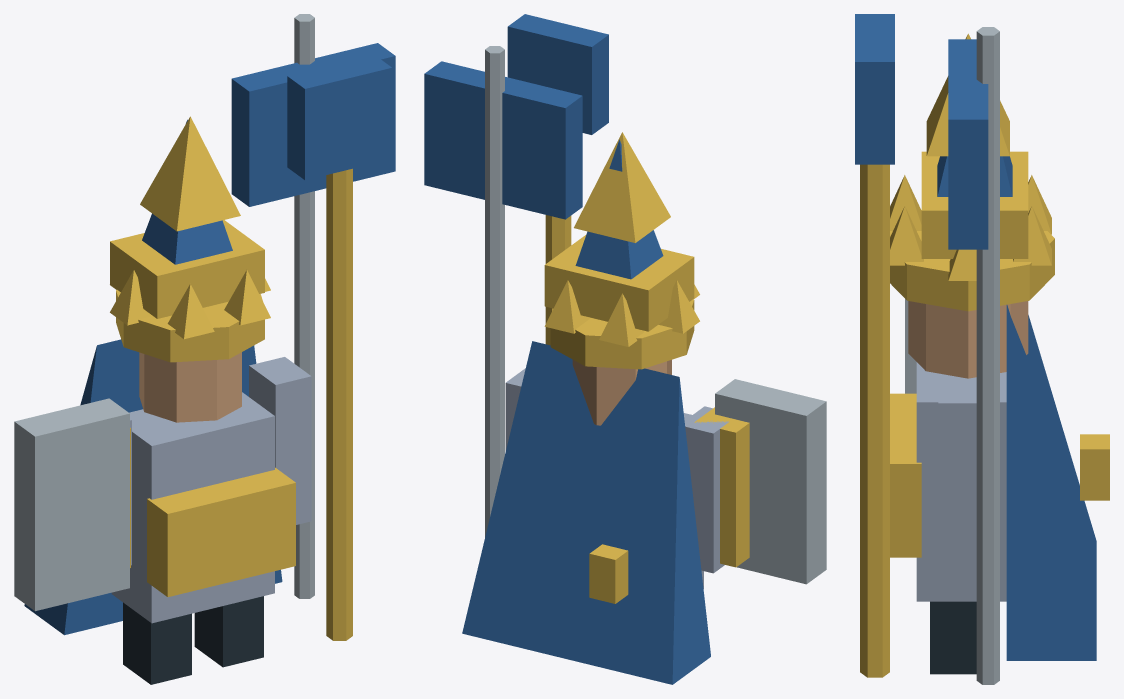
The model's file is healer.obj.
The picture shows the model from 3 angles, left to right: view 1: azimuth 30°, elevation 25°; view 2: azimuth 150°, elevation 25°; view 3: azimuth 270°, elevation 25°; orthographic projection. The views are drawn at different scales.
Parts seen in each view (by area): view 1: hero; view 2: hero; view 3: hero.
Part boxes in pixels (x1,y1,x2,y2): hero: (14, 14, 395, 684); hero: (424, 14, 826, 684); hero: (855, 14, 1109, 684).
Size of the model in its own units: 1.48 by 2.25 by 0.765.
